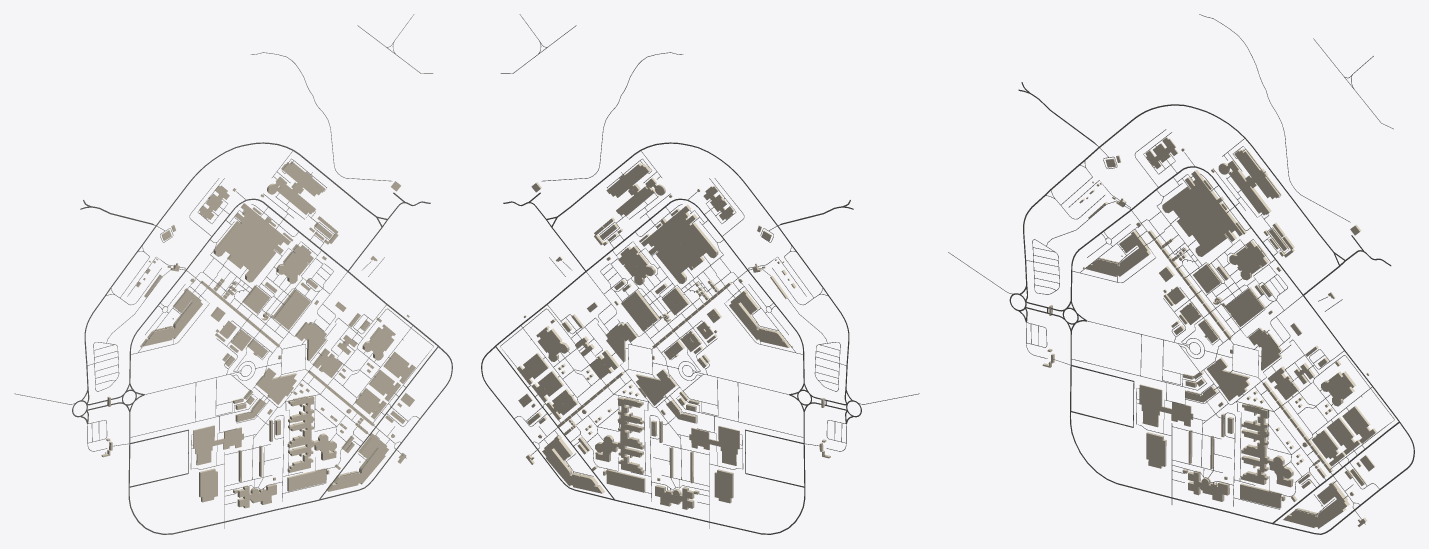
The model's file is zarqa_3618_3210.glb.
3 views of the same model, side by side, from view 1: azimuth 30°, elevation 25°; view 2: azimuth 150°, elevation 25°; view 3: azimuth 330°, elevation 25° (orthographic). The views are drawn at different scales.
Visible parts, largest first — view 1: Building_.014, Building_.024, Road .010, Building_.018, Building_.144, Building_.167, Building_.081, Building_.003, Building_.010, Building_.158, Road .063, Building_.051 (+7 smaller); view 2: Building_.059, Building_.024, Road .010, Building_.018, Building_.144, Building_.167, Building_.081, Building_.003, Building_.010, Building_.158, Building_.002, Building_.051 (+7 smaller); view 3: Building_.014, Building_.024, Road .010, Building_.144, Building_.081, Building_.018, Building_.167, Building_.003, Building_.158, Building_.010, Road .063, Building_.002 (+7 smaller).
Part boxes in pixels (<box>): Building_.014: <box>214,204,290,282</box>; Building_.024: <box>287,395,336,472</box>; Road .010: <box>128,198,452,534</box>; Building_.018: <box>326,433,388,491</box>; Building_.144: <box>277,161,325,214</box>; Building_.167: <box>141,288,202,346</box>; Building_.081: <box>193,425,243,465</box>; Building_.003: <box>256,368,296,404</box>; Building_.010: <box>273,289,310,330</box>; Building_.158: <box>276,244,313,283</box>; Road .063: <box>91,142,382,227</box>; Building_.051: <box>362,324,395,360</box>; Building_.059: <box>641,205,716,283</box>; Building_.024: <box>595,397,644,474</box>; Road .010: <box>481,198,805,534</box>; Building_.018: <box>542,435,604,493</box>; Building_.144: <box>606,163,655,216</box>; Building_.167: <box>729,289,790,347</box>; Building_.081: <box>689,426,739,465</box>; Building_.003: <box>636,369,676,405</box>; Building_.010: <box>621,290,659,331</box>; Building_.158: <box>618,245,655,285</box>; Building_.002: <box>605,323,637,362</box>; Building_.051: <box>536,326,569,361</box>; Building_.014: <box>1162,170,1242,256</box>; Building_.024: <box>1241,403,1293,487</box>; Road .010: <box>1070,166,1414,534</box>; Building_.144: <box>1228,149,1281,215</box>; Building_.081: <box>1139,384,1193,427</box>; Building_.018: <box>1283,481,1349,528</box>; Building_.167: <box>1086,230,1150,276</box>; Building_.003: <box>1206,357,1249,401</box>; Building_.158: <box>1229,240,1268,280</box>; Building_.010: <box>1225,287,1265,326</box>; Road .063: <box>1030,93,1339,265</box>; Building_.002: <box>1248,328,1282,370</box>.
Size of the model in its own units: 1186 by 1217 by 13.6.
